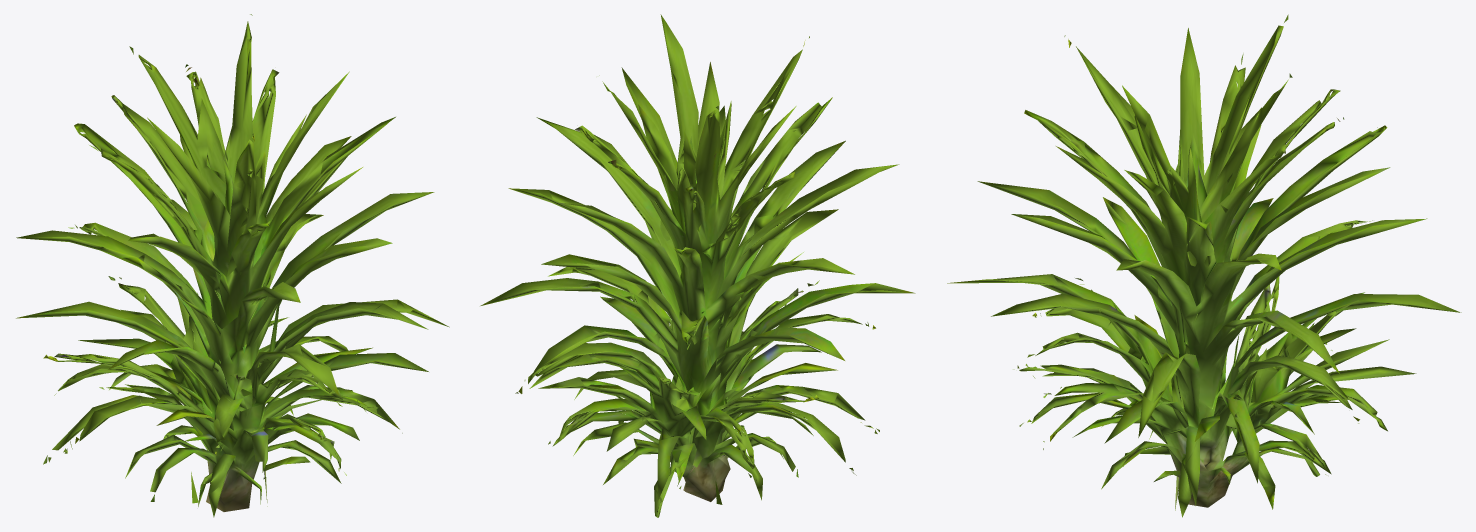
The model's file is pandantextured.fbx.
The picture shows the model from 3 angles, left to right: view 1: azimuth 30°, elevation 25°; view 2: azimuth 150°, elevation 25°; view 3: azimuth 270°, elevation 25°; orthographic projection. The views are drawn at different scales.
Parts seen in each view (by area): view 1: tripo_node_45d1b993; view 2: tripo_node_45d1b993; view 3: tripo_node_45d1b993.
Boxes of the visible parts, x1,y1,x2,y2 form: tripo_node_45d1b993: (16, 14, 449, 517); tripo_node_45d1b993: (480, 14, 915, 517); tripo_node_45d1b993: (947, 14, 1461, 517).
Size of the model in its own units: 0.8663 by 0.9845 by 1.
Materials: 1 (1 with a texture image).
